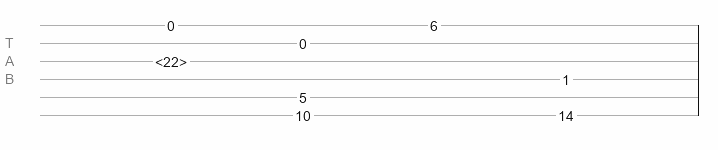0: (167, 18, 175, 28), (299, 36, 307, 46)
1: (562, 72, 570, 82)
10: (295, 108, 311, 118)
14: (558, 108, 574, 118)
5: (299, 90, 307, 100)
6: (430, 18, 438, 28)
harmonic: (155, 54, 187, 64)
